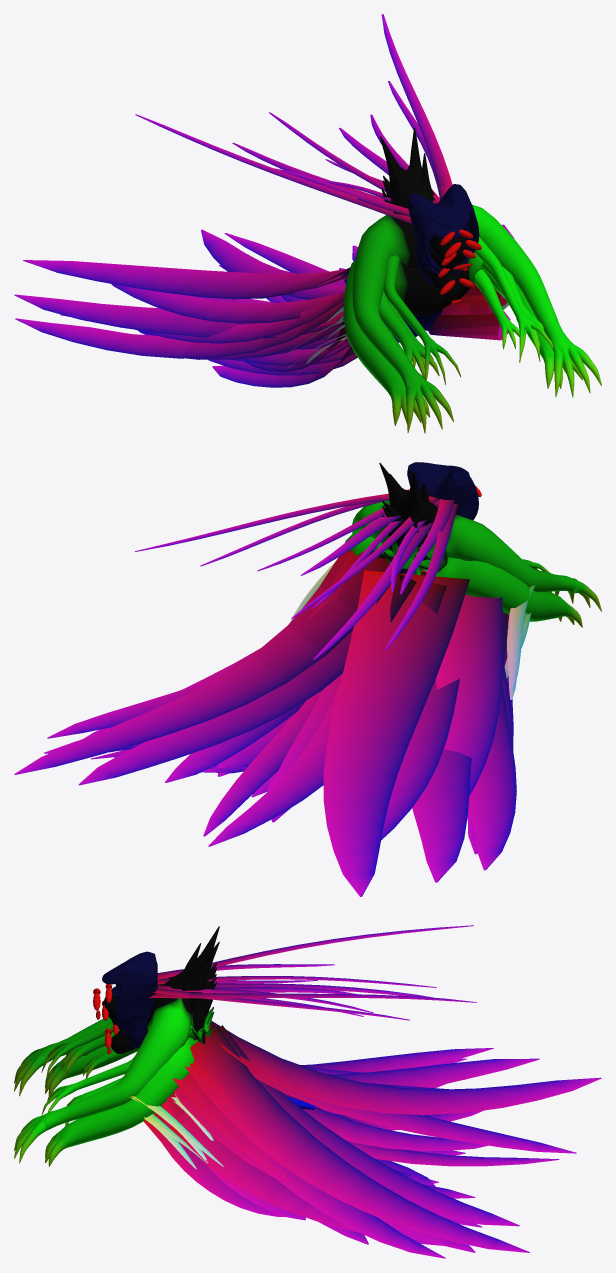
The model's file is spirits.glb.
3 renders of one model, top to bottom at view 1: azimuth 30°, elevation 25°; view 2: azimuth 150°, elevation 25°; view 3: azimuth 270°, elevation 25°, orthographic. The views are drawn at different scales.
Visible parts, largest first — view 1: smoke_boss, core_boss, core_brute, smoke_brute, smoke_banshee, core_banshee, core_shade, smoke_shade, core_wraith, smoke_wraith; view 2: smoke_boss, core_boss, smoke_banshee, core_brute, smoke_shade, smoke_brute; view 3: smoke_boss, core_boss, core_brute, smoke_banshee, smoke_shade, smoke_brute, core_banshee, core_shade, core_wraith.
Part boxes in pixels (x1,y1,x2,y2): smoke_boss: (14, 14, 504, 359); core_boss: (352, 127, 601, 433); core_brute: (343, 180, 582, 425); smoke_brute: (212, 267, 510, 387); smoke_banshee: (137, 81, 487, 335); core_banshee: (344, 202, 553, 384); core_shade: (379, 175, 544, 378); smoke_shade: (60, 224, 514, 375); core_wraith: (389, 245, 519, 369); smoke_wraith: (230, 295, 469, 365); smoke_boss: (14, 493, 535, 896); core_boss: (352, 462, 601, 611); smoke_banshee: (90, 489, 454, 836); core_brute: (345, 506, 582, 627); smoke_shade: (47, 674, 306, 797); smoke_brute: (202, 612, 531, 776); smoke_boss: (129, 925, 601, 1252); core_boss: (14, 926, 219, 1163); core_brute: (45, 967, 216, 1166); smoke_banshee: (153, 964, 559, 1243); smoke_shade: (171, 1084, 481, 1258); smoke_brute: (144, 1093, 438, 1220); core_banshee: (41, 968, 314, 1115); core_shade: (61, 963, 216, 1125); core_wraith: (83, 1012, 150, 1078).
Bounding box in the file's own units: 4.02 × 1.97 × 4.74.
